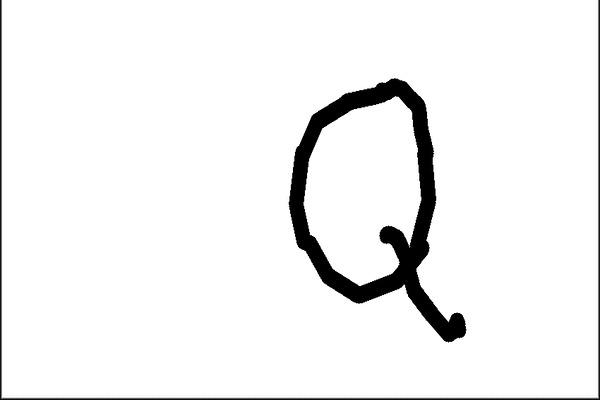Q: (280, 70, 471, 346)
